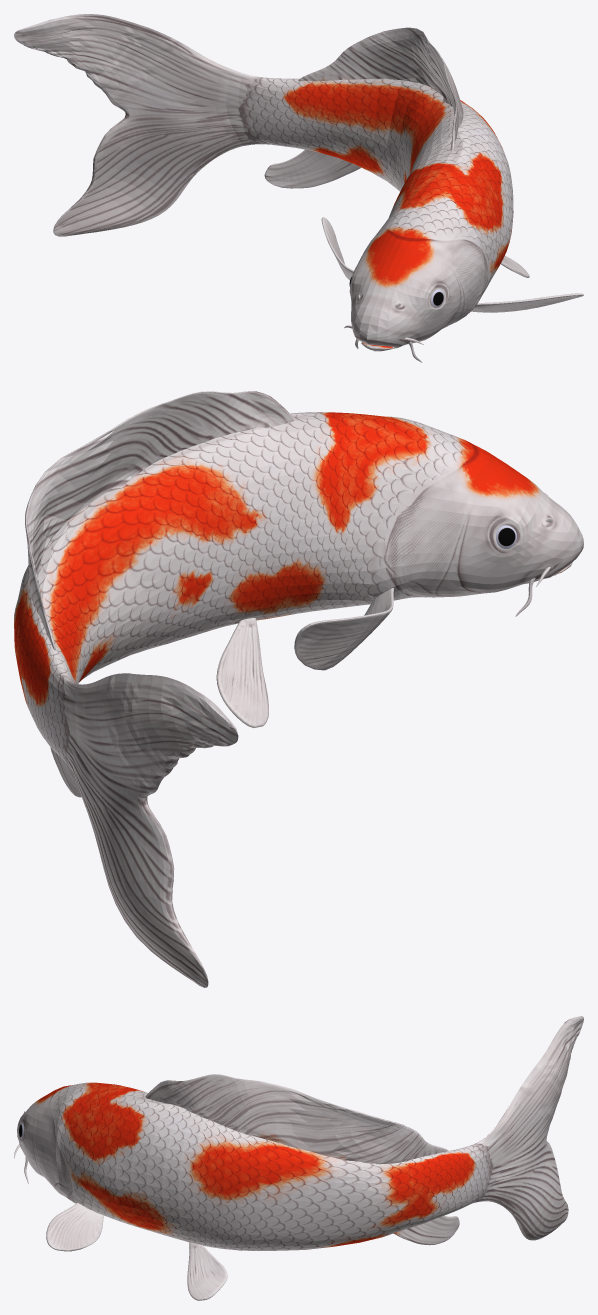
File: Koifish.gltf
3 renders of one model, top to bottom at view 1: azimuth 30°, elevation 25°; view 2: azimuth 150°, elevation 25°; view 3: azimuth 270°, elevation 25°, orthographic. The views are drawn at different scales.
Bounding box in the file's own units: 0.6059 × 0.4855 × 1.07.
1 material, 1 textured.
